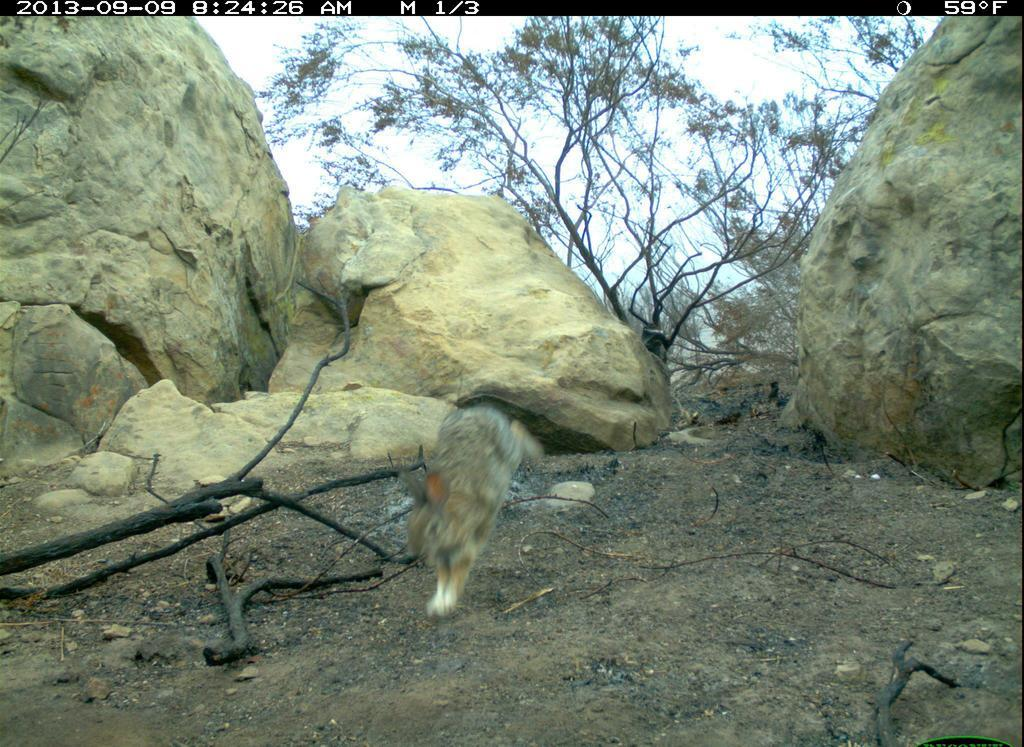rabbit: (387, 392, 550, 635)
